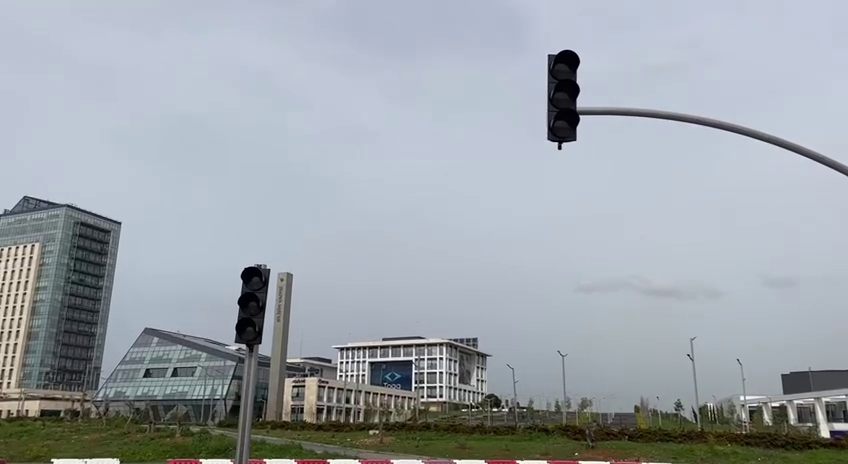trafficLight: (541, 44, 584, 152), (231, 260, 274, 349)
